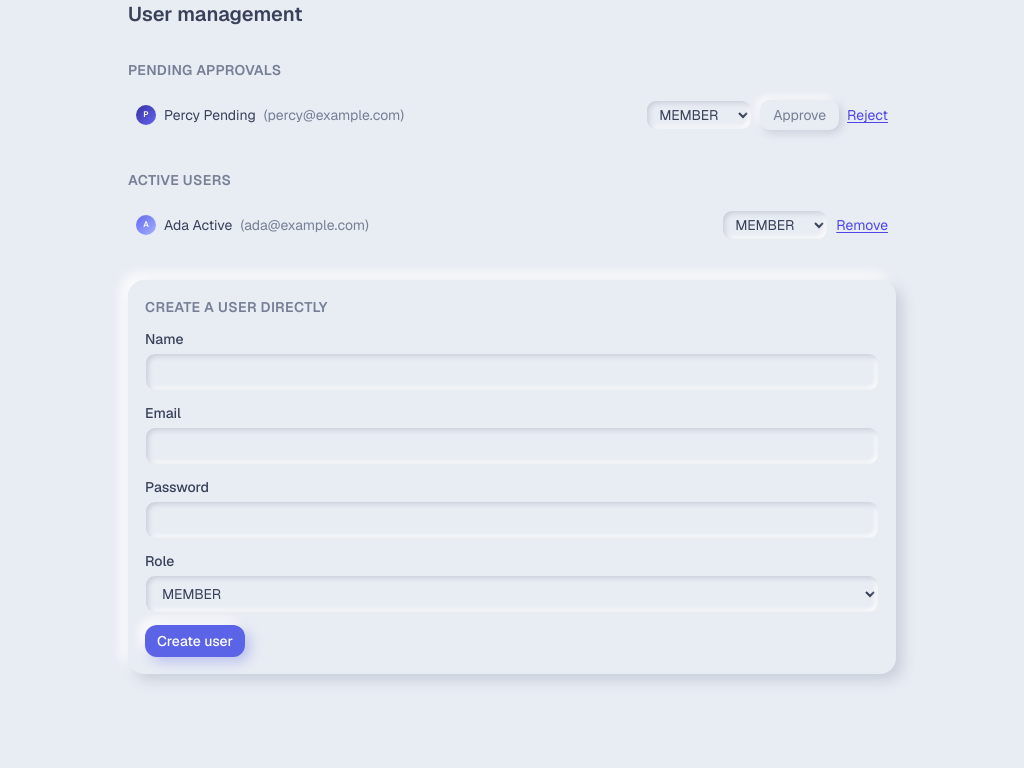
Test: AdminUsersPage › approves a pending user with the chosen role and moves them out of the pending list
expect the text "Percy Pending" is shown: met, box x1=164 y1=106 x2=256 y2=124
Step 1. Select "MANAGER" in the dropdown named "Role for Percy Pending" → coordinates (699, 115), box x1=646 y1=100 x2=752 y2=130
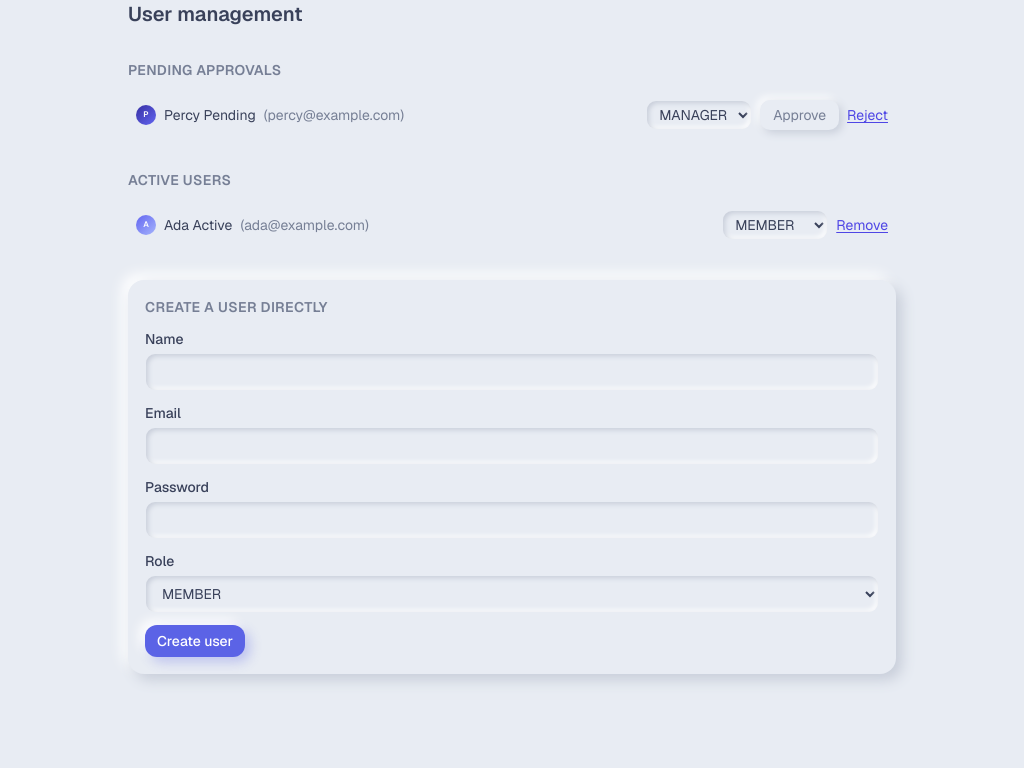
Step 2. Click the button "Approve" → coordinates (800, 115), box x1=760 y1=100 x2=839 y2=130
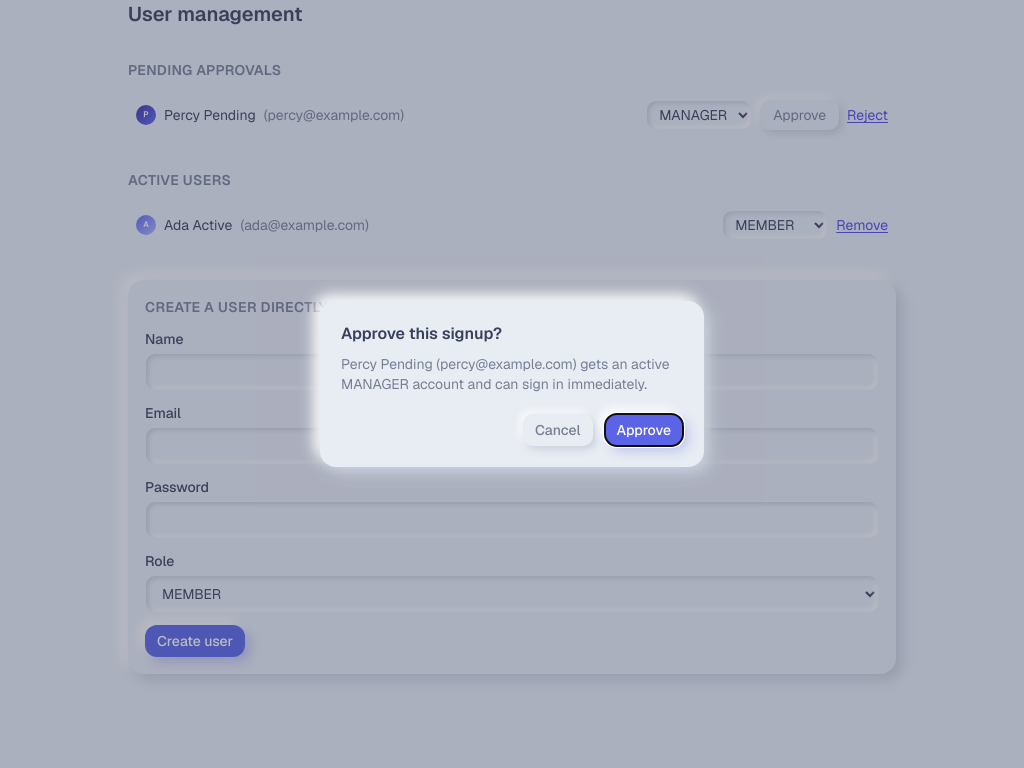
Step 3. Click the button "Approve" → coordinates (644, 430), box x1=604 y1=414 x2=683 y2=446
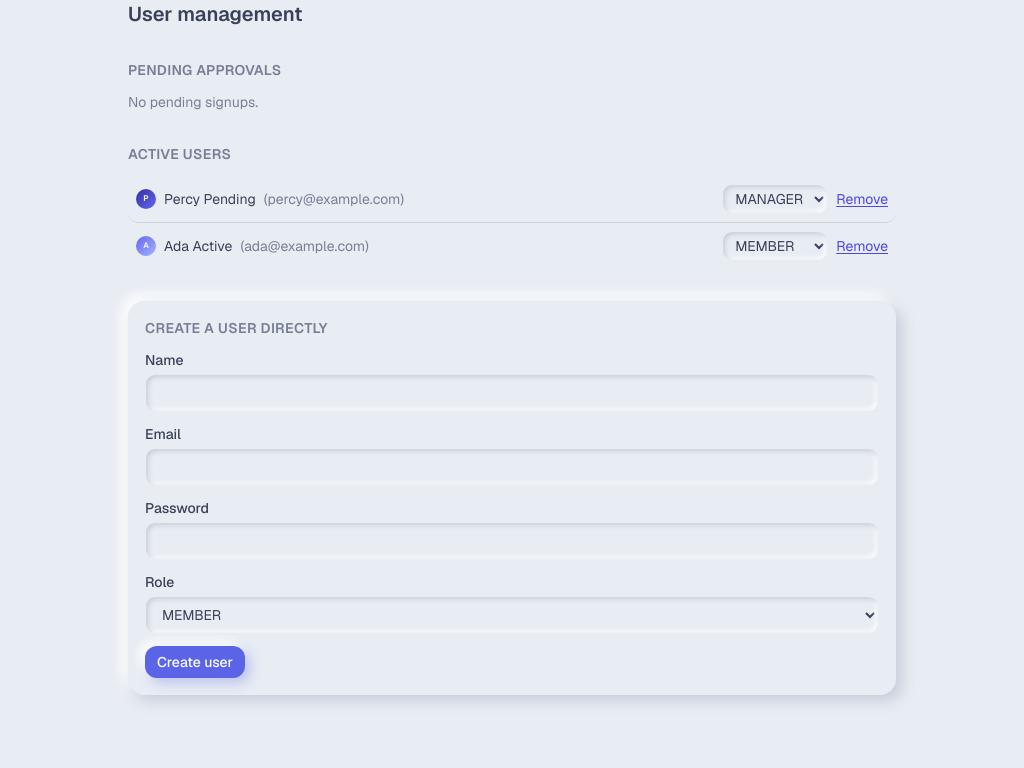
expect the dropdown named "Role for Percy Pending" shows "MANAGER": met, box x1=722 y1=184 x2=828 y2=214
expect the dialog is gone: met
expect the text "No pending signups." is shown: met, box x1=128 y1=93 x2=258 y2=111
